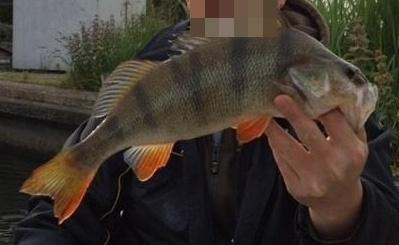Perch: (14, 28, 389, 219)
